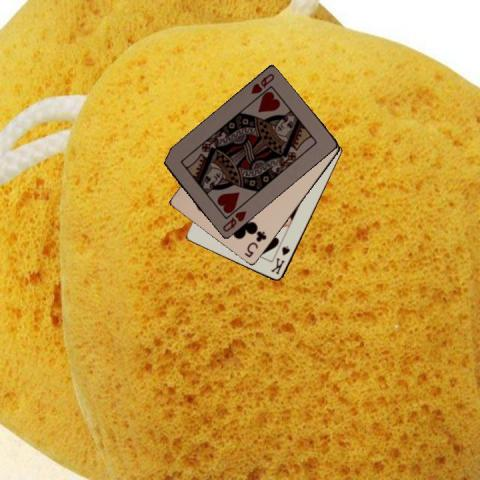5c: (241, 229, 268, 259)
Ks: (268, 243, 291, 276)
Qh: (219, 208, 248, 233), (248, 71, 276, 96)
